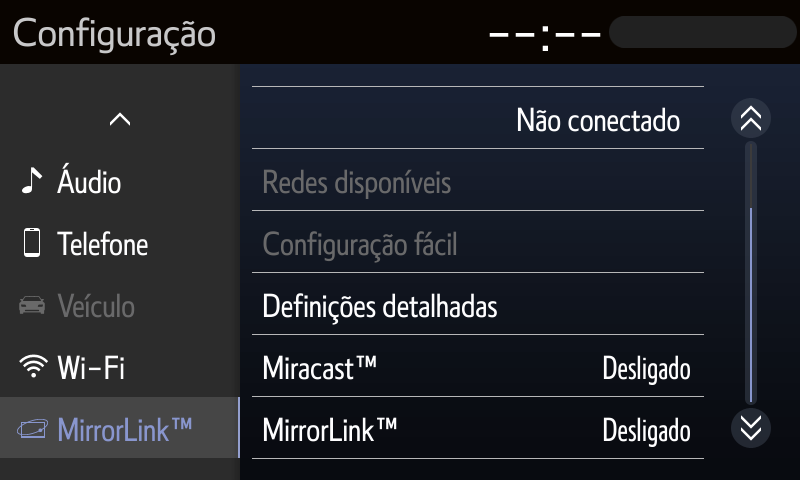touchPart: (248, 81, 705, 154), (246, 393, 705, 464), (246, 331, 709, 401), (248, 268, 708, 338), (16, 221, 158, 267), (17, 153, 137, 207), (17, 349, 133, 383), (729, 406, 774, 449), (732, 101, 774, 138), (107, 106, 140, 133)
untouchPart: (249, 207, 709, 278), (249, 146, 707, 214), (474, 9, 797, 59), (2, 395, 241, 461), (9, 11, 217, 53), (21, 284, 147, 326)
